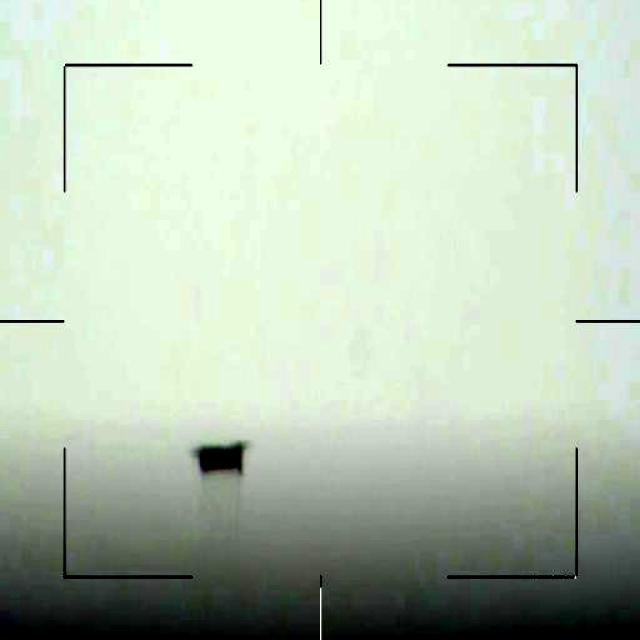bird: (192, 439, 246, 471)
